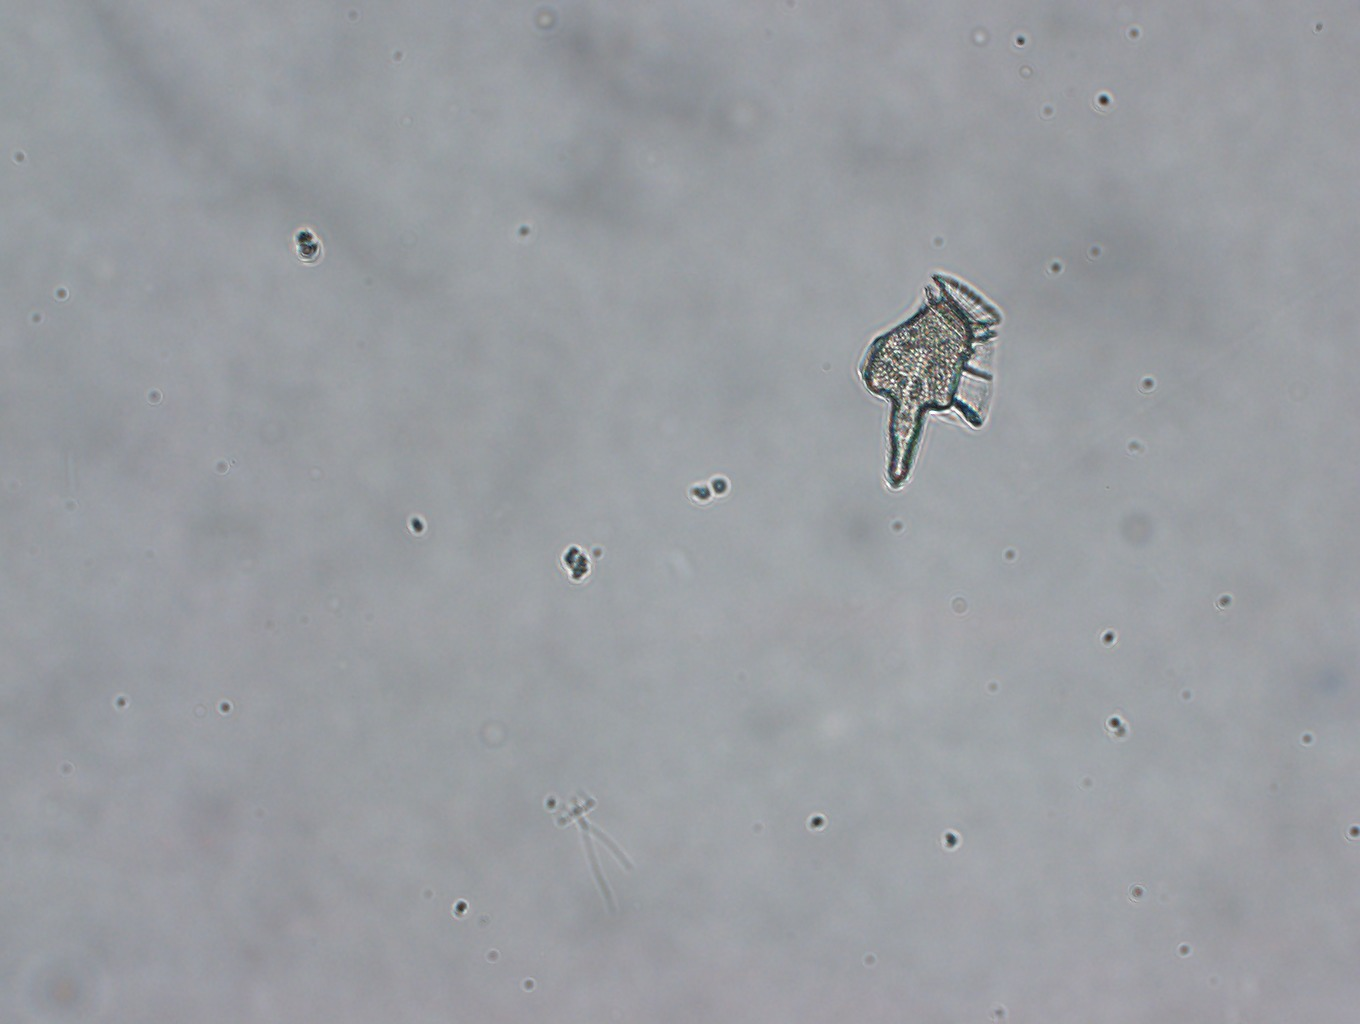dinophysis caudata: (847, 259, 1010, 501)
